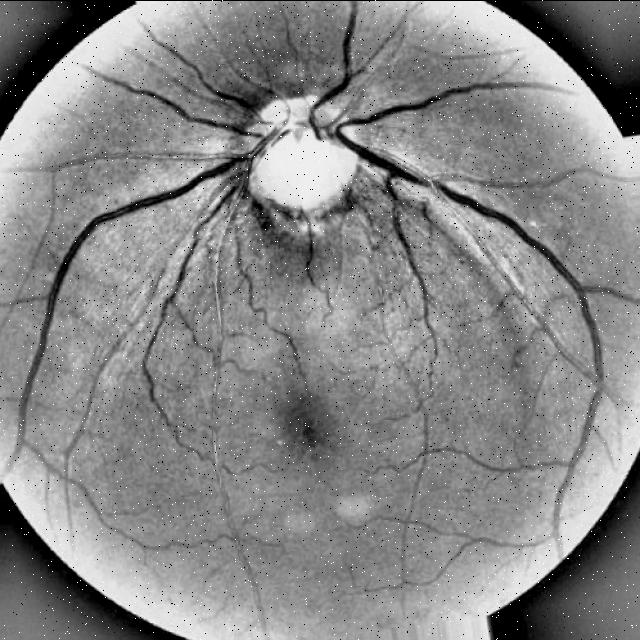Optic Disk: (252, 93, 357, 212)
